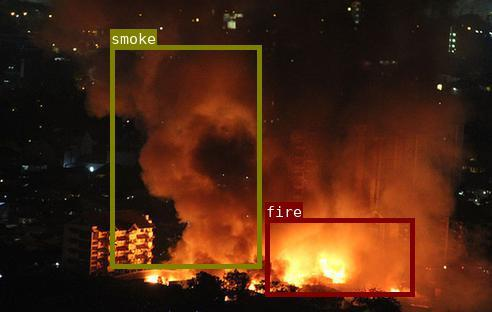fire: (264, 217, 414, 295)
smoke: (110, 44, 261, 267)
